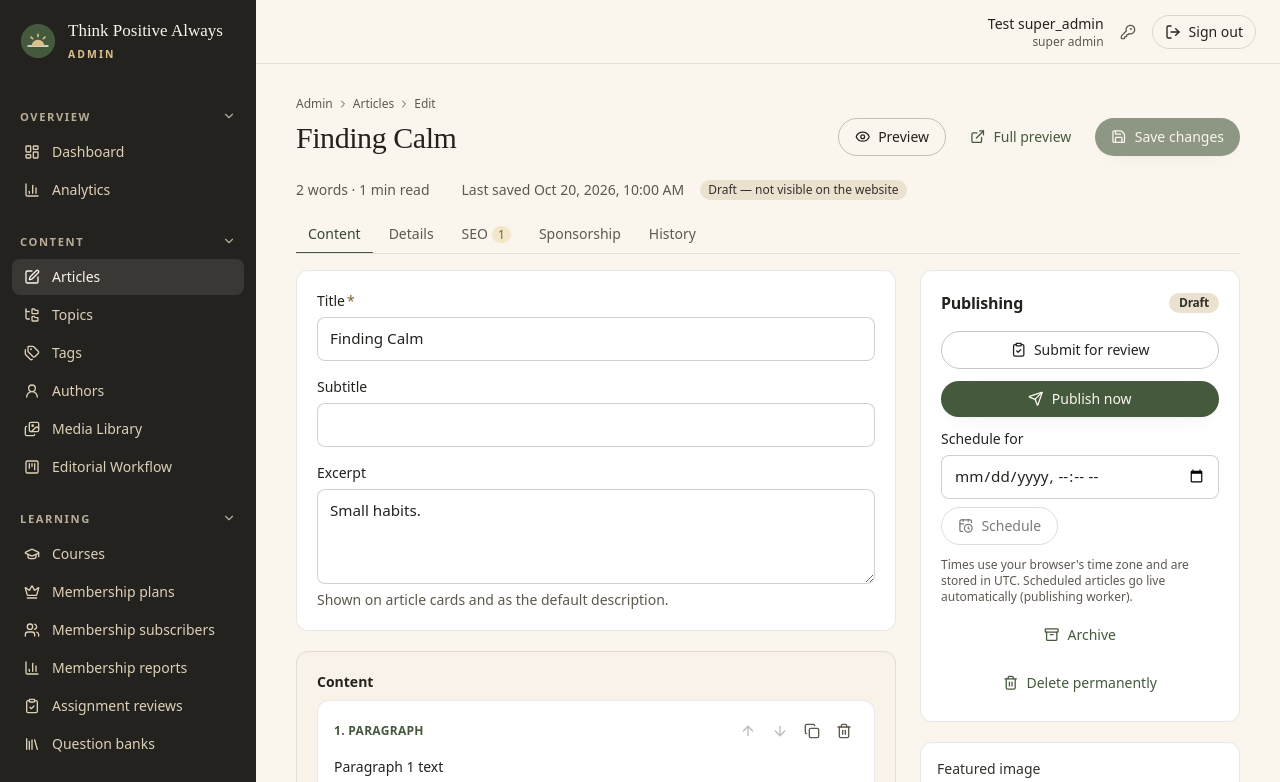
it: revision history › lists, compares and restores revisions
The width and height of the screenshot is (1280, 782).
Click the tab "History": [672, 235] box 637,216 -> 708,254
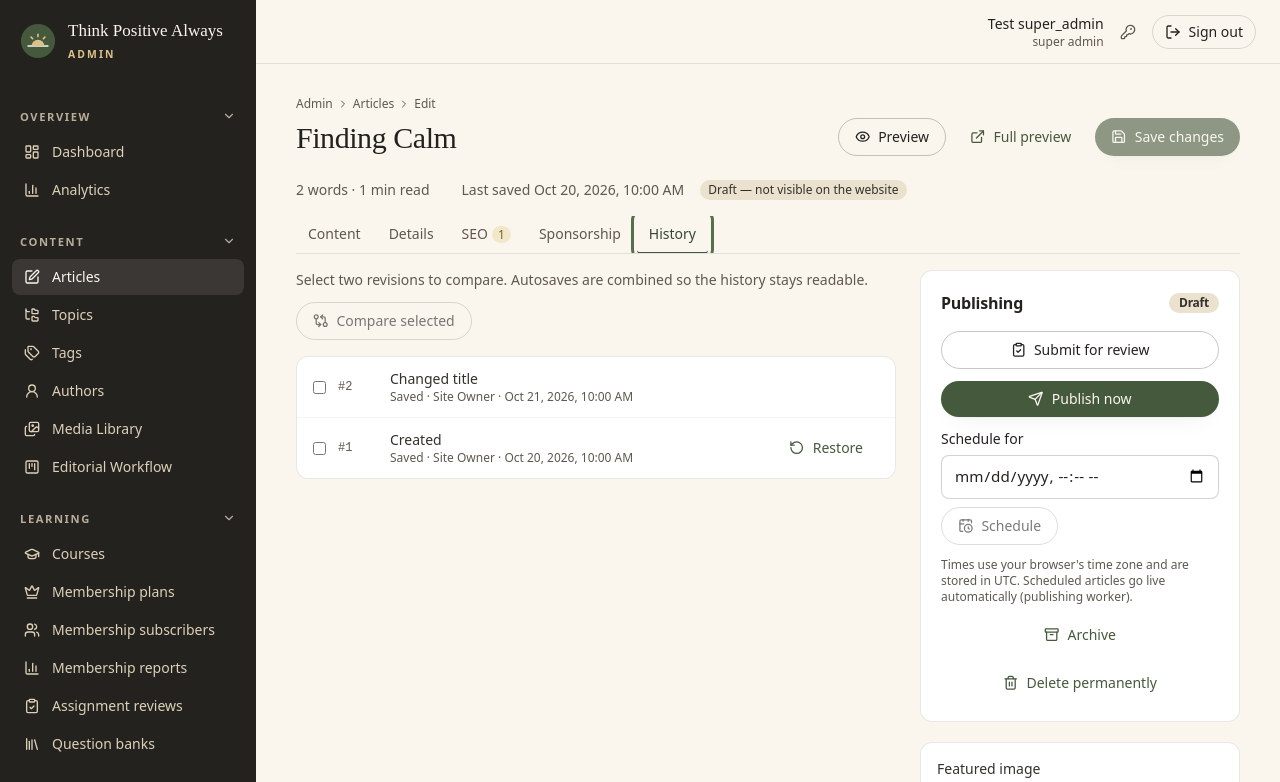
Now the text "Changed title" is shown, box 390,369 -> 478,388
Click the checkbox named "Select revision 2": [320, 387] box 313,380 -> 326,394
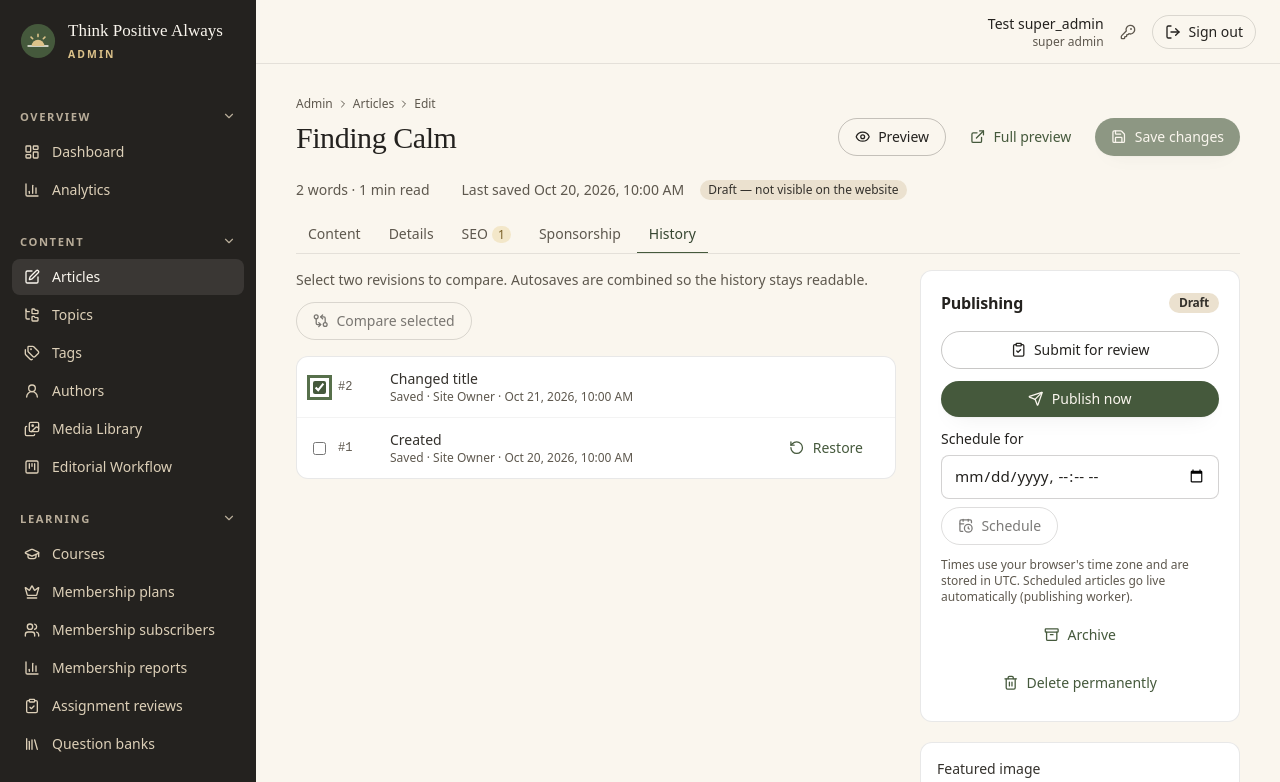
Click the checkbox named "Select revision 1": [320, 448] box 313,442 -> 326,454
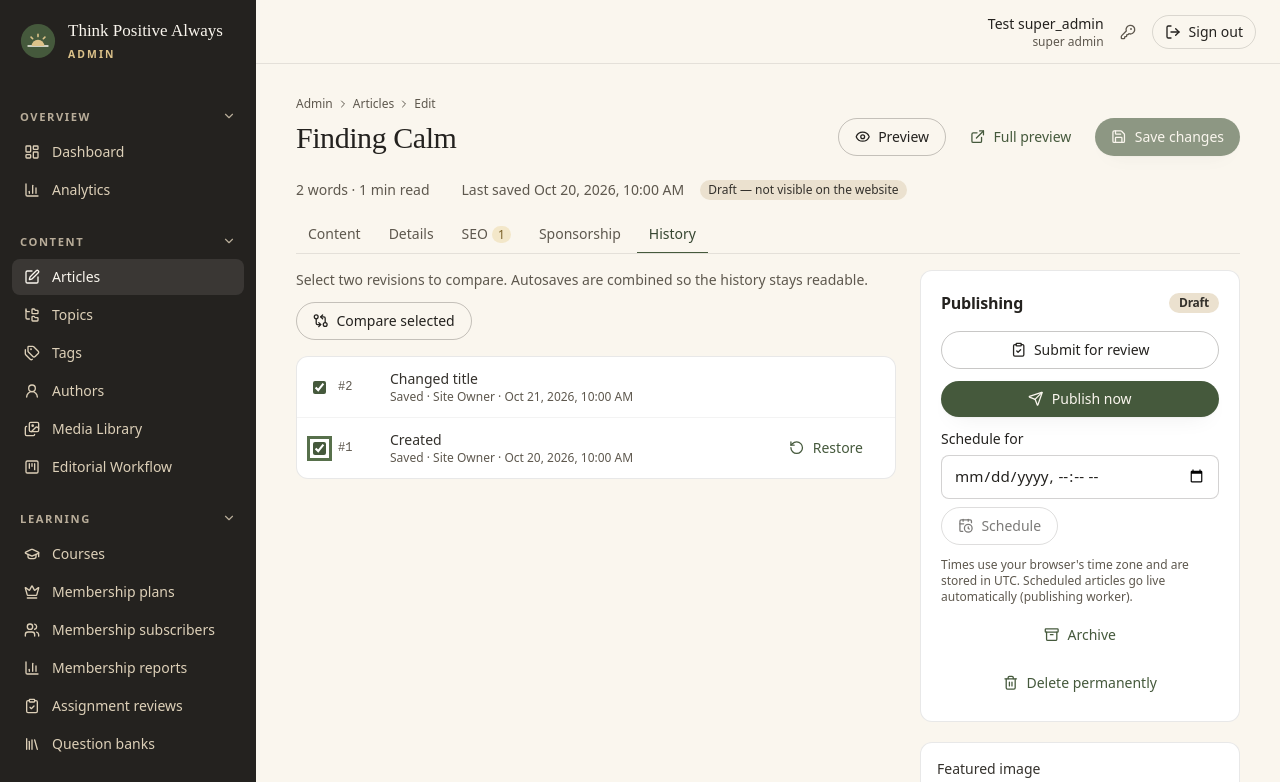
Click the button "Compare selected": [384, 321] box 296,302 -> 472,340
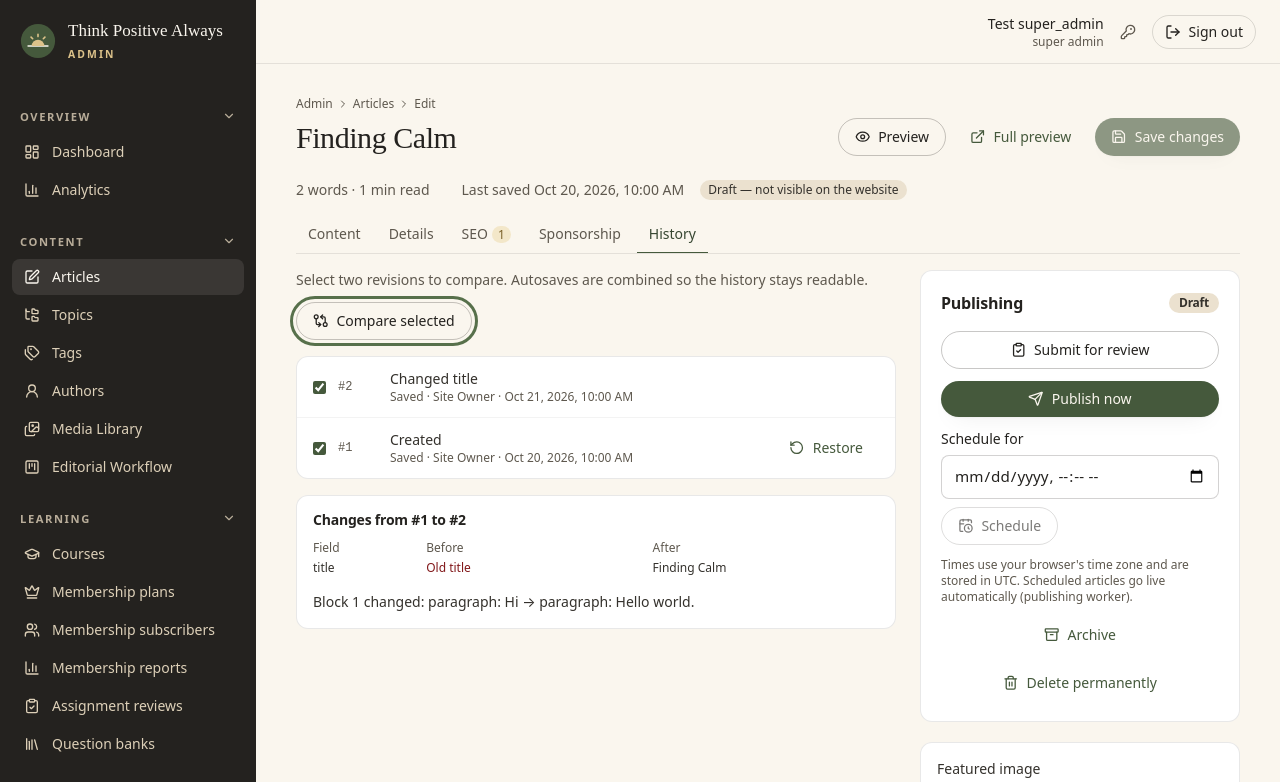
Now the text "Old title" is shown, box 426,556 -> 653,580
Click the button "Restore": [826, 448] box 773,430 -> 879,466
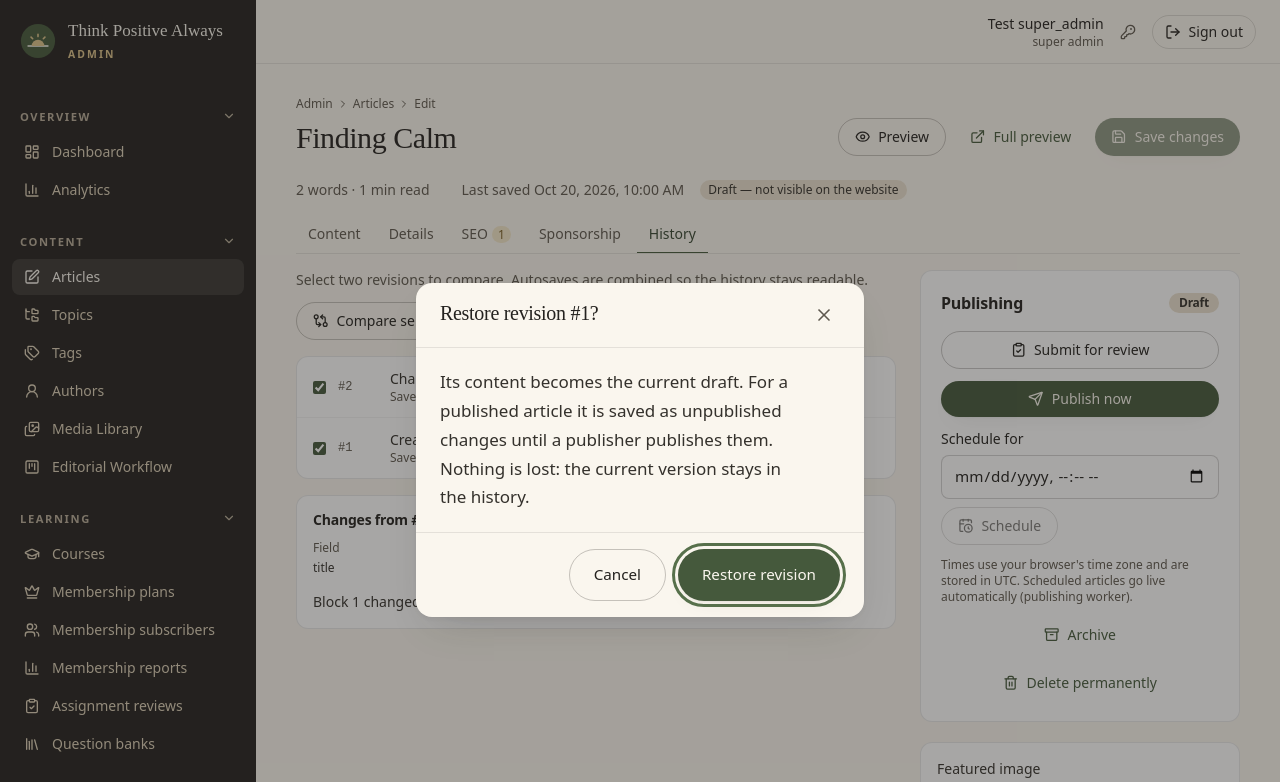
Click the button "Restore revision": [759, 575] box 678,549 -> 840,601
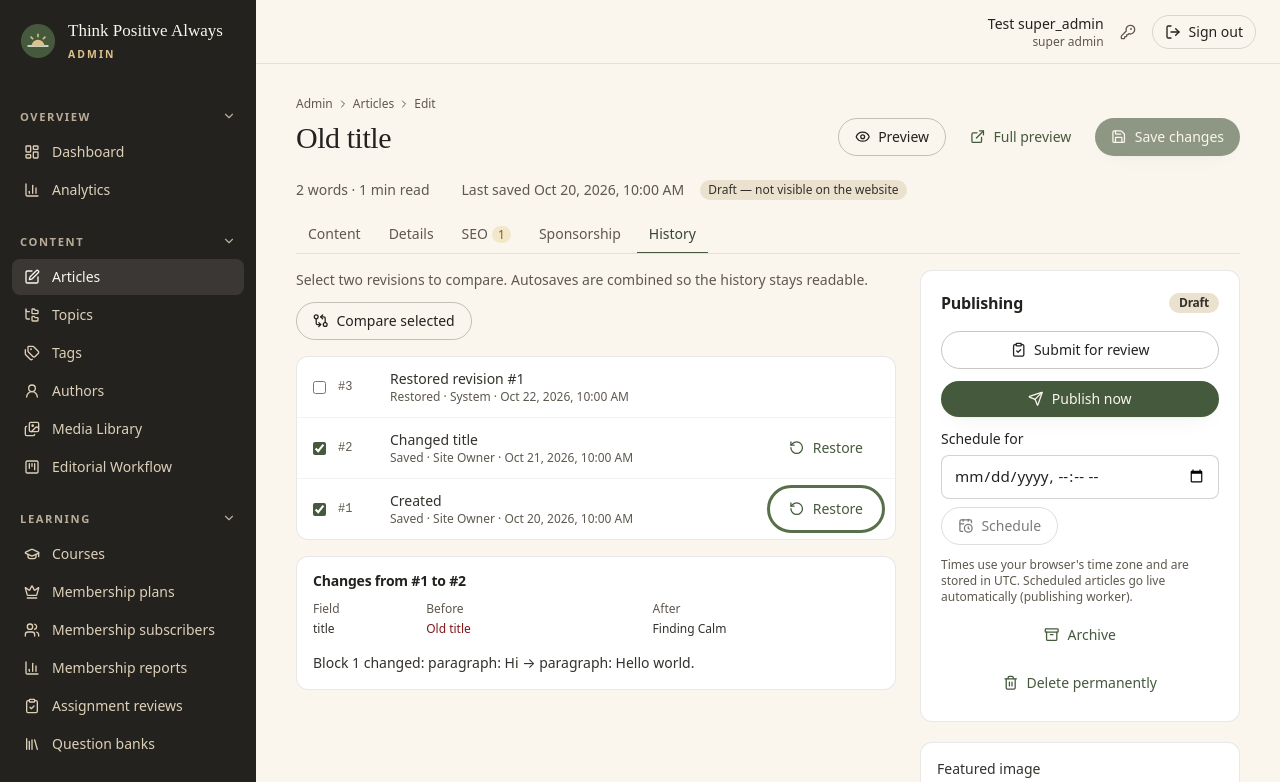
Now the text "Restored revision #1" is shown, box 390,369 -> 524,388
